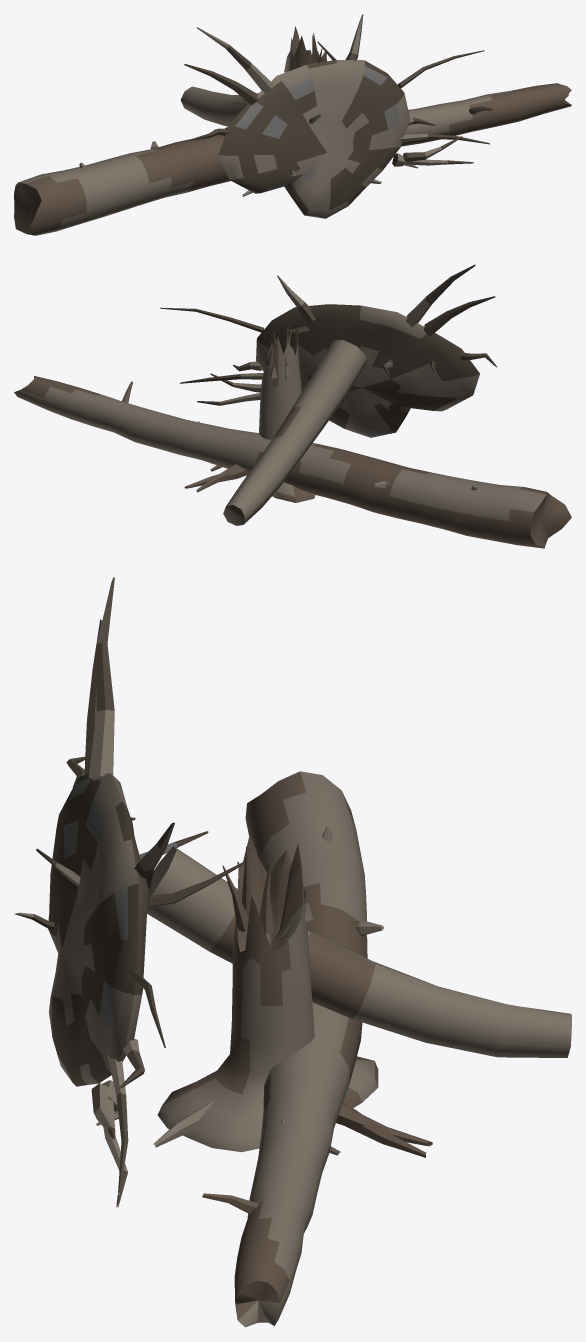
File: deadwood.glb
The picture shows the model from 3 angles, top to bottom: view 1: azimuth 30°, elevation 25°; view 2: azimuth 150°, elevation 25°; view 3: azimuth 270°, elevation 25°; orthographic projection. The views are drawn at different scales.
Visible parts, largest first — view 1: deadwood_v2_LOD0, deadwood_v0_LOD0, deadwood_v1_LOD0; view 2: deadwood_v2_LOD0, deadwood_v0_LOD0, deadwood_v1_LOD0; view 3: deadwood_v2_LOD0, deadwood_v0_LOD0, deadwood_v1_LOD0.
Boxes of the visible parts, x1=… form: deadwood_v2_LOD0: x1=180, y1=14, x2=489, y2=218; deadwood_v0_LOD0: x1=14, y1=83, x2=571, y2=235; deadwood_v1_LOD0: x1=242, y1=26, x2=381, y2=196; deadwood_v2_LOD0: x1=160, y1=264, x2=497, y2=525; deadwood_v0_LOD0: x1=14, y1=376, x2=571, y2=548; deadwood_v1_LOD0: x1=184, y1=325, x2=315, y2=502; deadwood_v2_LOD0: x1=14, y1=577, x2=571, y2=1207; deadwood_v0_LOD0: x1=202, y1=771, x2=383, y2=1327; deadwood_v1_LOD0: x1=153, y1=834, x2=432, y2=1157.
Size of what is drawn, in the model's own units: 7.24 by 2.7 by 3.44.
